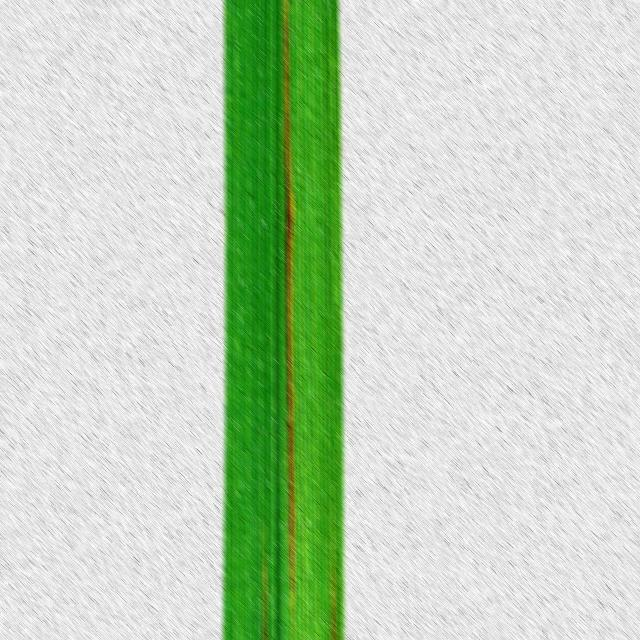NBS: (283, 1, 295, 616), (330, 569, 337, 640), (263, 560, 268, 640)
